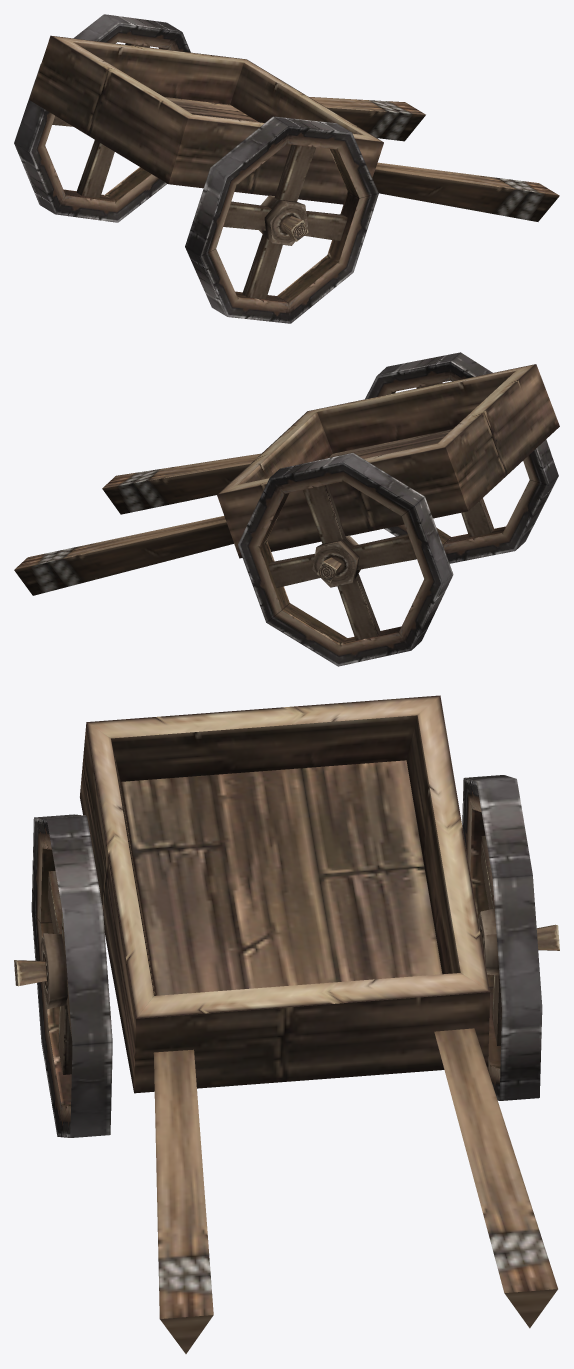
The model's file is Lty_xiaoche02.FBX.
The picture shows the model from 3 angles, top to bottom: view 1: azimuth 30°, elevation 25°; view 2: azimuth 150°, elevation 25°; view 3: azimuth 270°, elevation 25°; orthographic projection. The views are drawn at different scales.
Parts seen in each view (by area): view 1: Lty_xiaoche02; view 2: Lty_xiaoche02; view 3: Lty_xiaoche02.
Part boxes in pixels (x1,y1,x2,y2): Lty_xiaoche02: [14, 14, 559, 323]; Lty_xiaoche02: [14, 352, 559, 666]; Lty_xiaoche02: [14, 695, 559, 1353].
Bounding box in the file's own units: 80.06 × 55.18 × 39.3.
